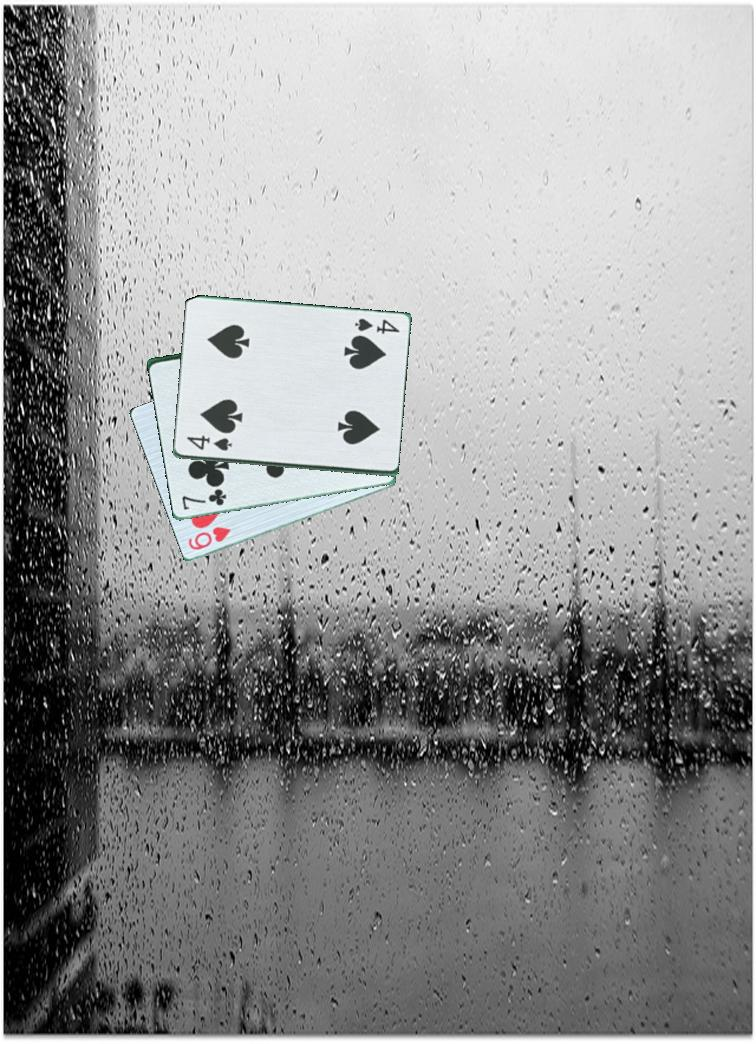4s: (347, 315, 402, 337), (183, 433, 234, 454)
6h: (184, 523, 234, 553)
7c: (178, 485, 231, 513)
